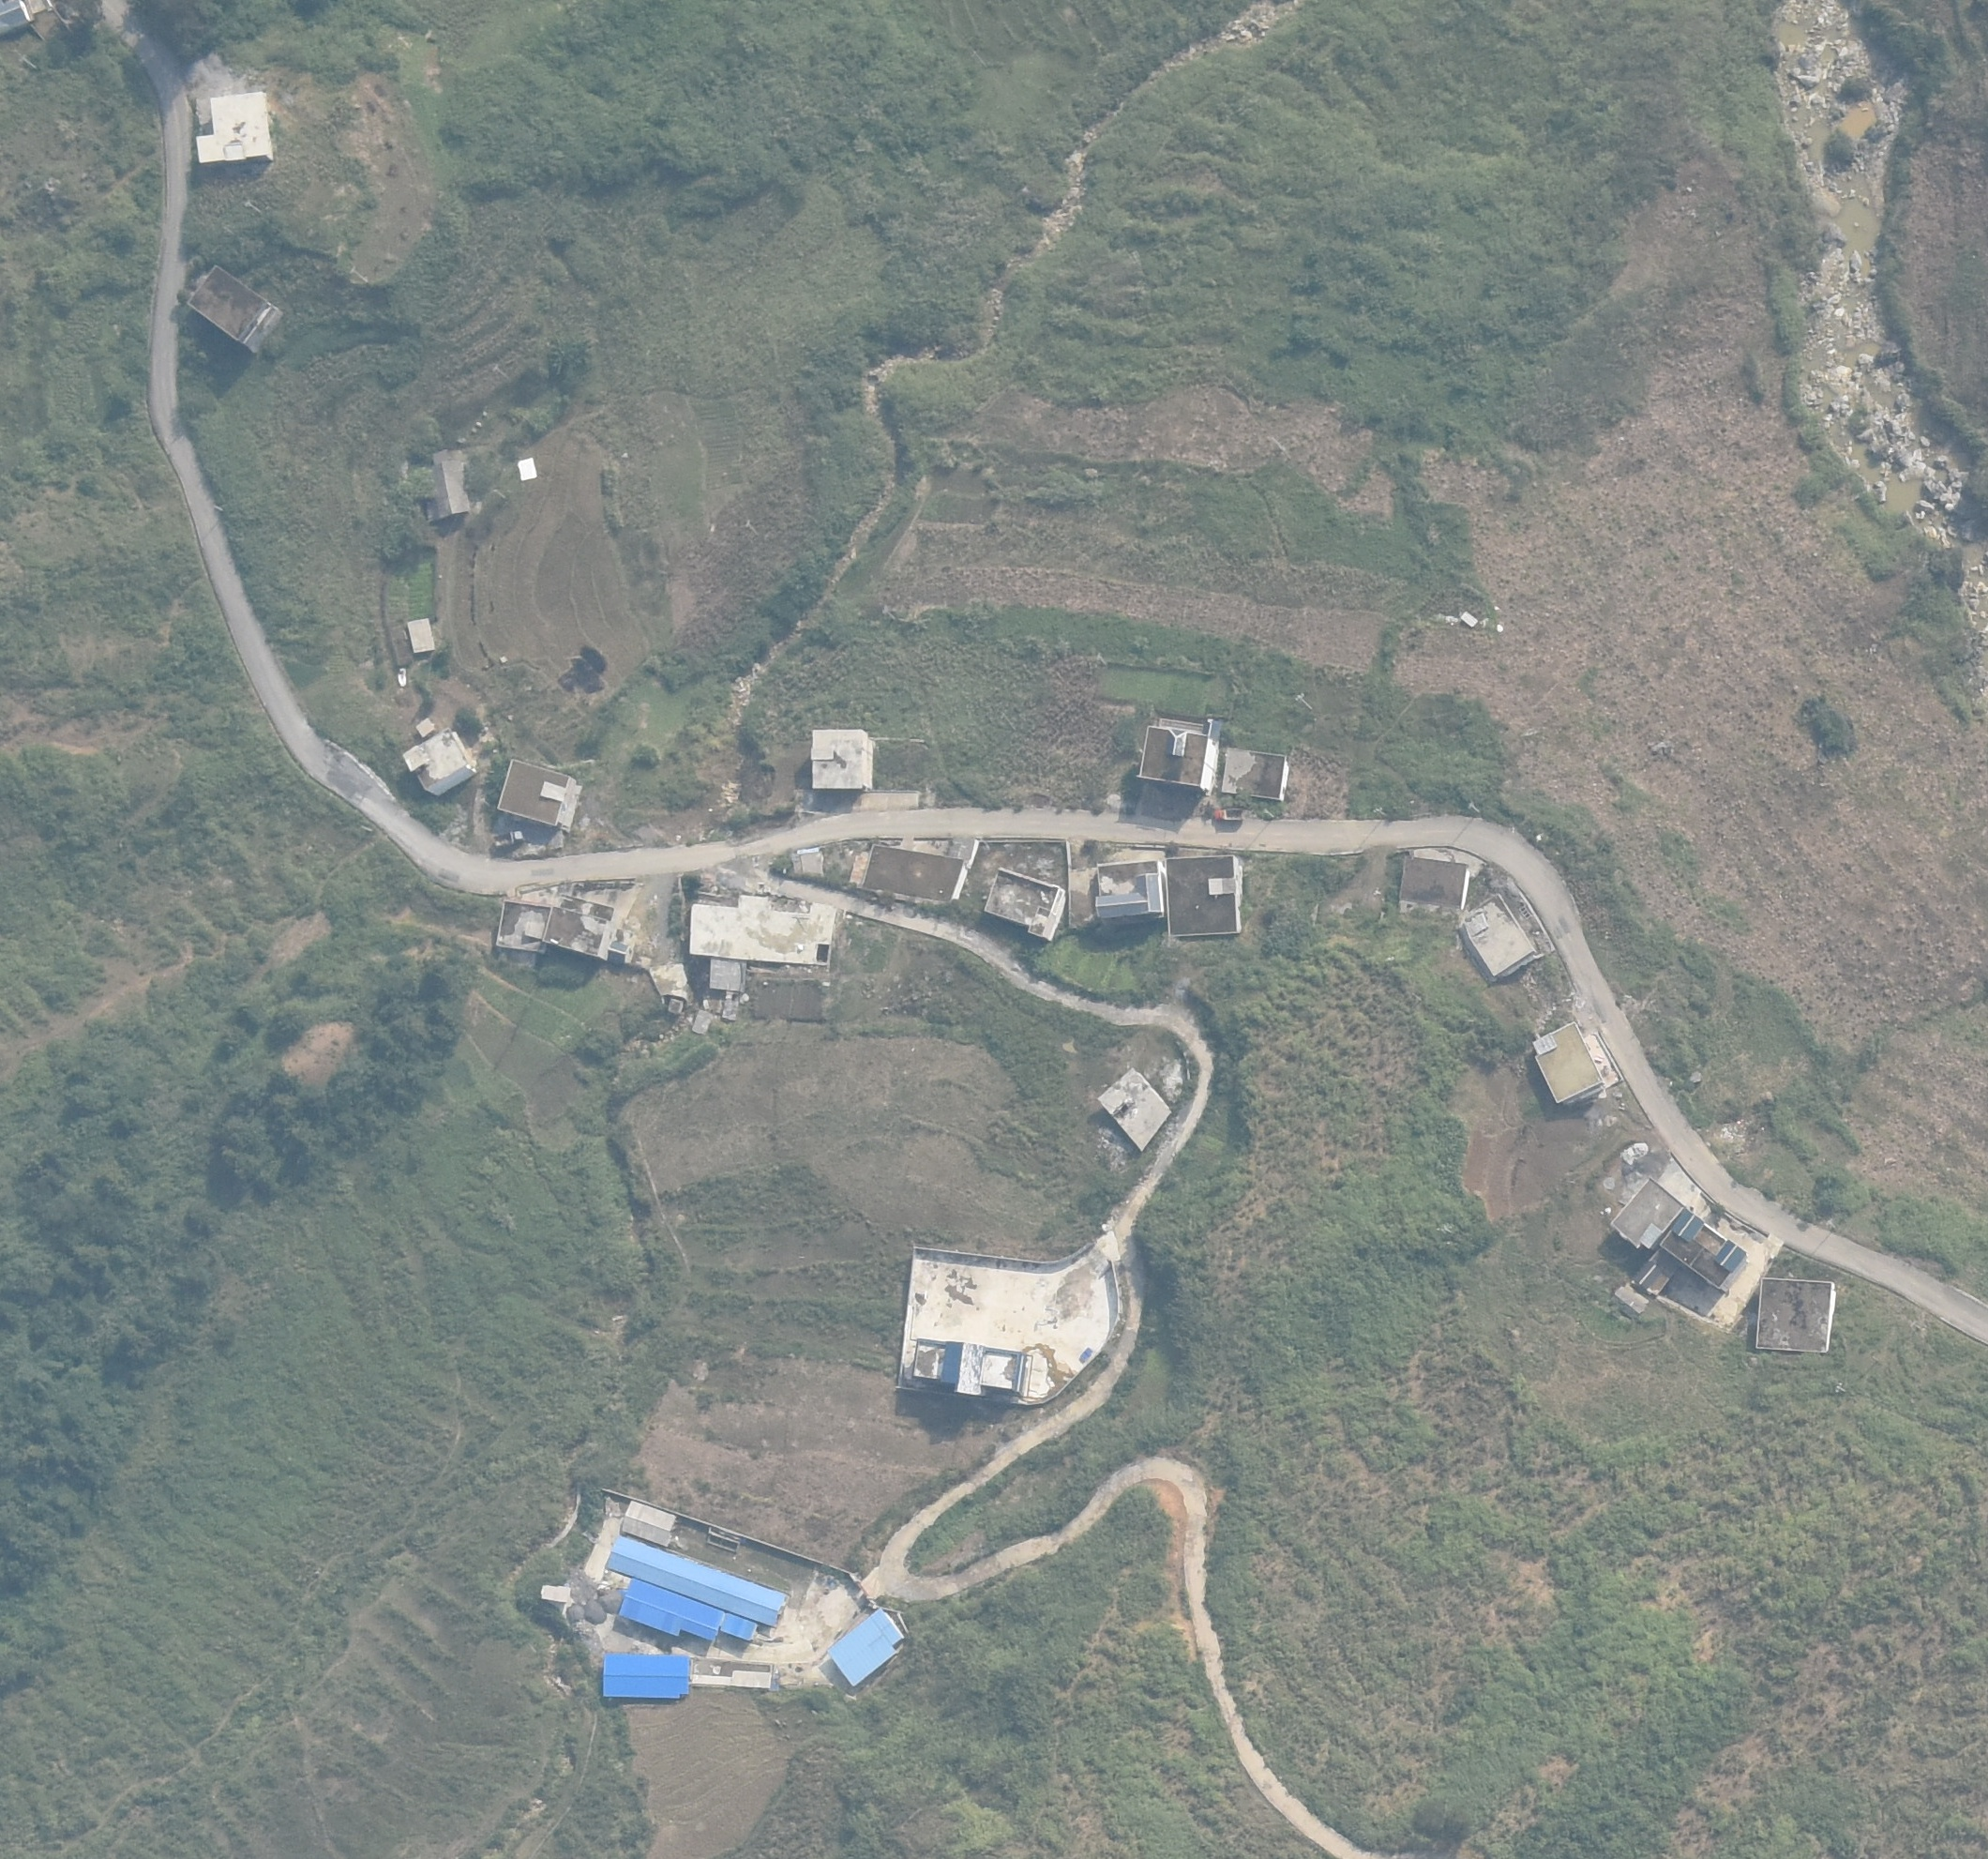building: (1607, 1171, 1744, 1317), (685, 884, 854, 995), (491, 883, 640, 981), (184, 261, 283, 347), (1091, 1067, 1185, 1154), (1528, 1020, 1624, 1103), (1088, 839, 1166, 942), (1159, 853, 1250, 940), (1752, 1274, 1842, 1355), (1134, 712, 1218, 796), (1458, 897, 1546, 977), (856, 842, 966, 907), (193, 88, 272, 171), (399, 727, 478, 800), (497, 754, 573, 828), (984, 868, 1064, 937), (806, 722, 877, 794), (1398, 844, 1469, 912), (416, 447, 474, 521), (1222, 740, 1287, 802), (910, 1333, 964, 1396), (621, 1500, 683, 1550), (978, 1340, 1029, 1398), (397, 613, 439, 653)
prefabricated-house: (611, 1529, 788, 1639), (821, 1609, 918, 1688), (603, 1648, 695, 1707)
